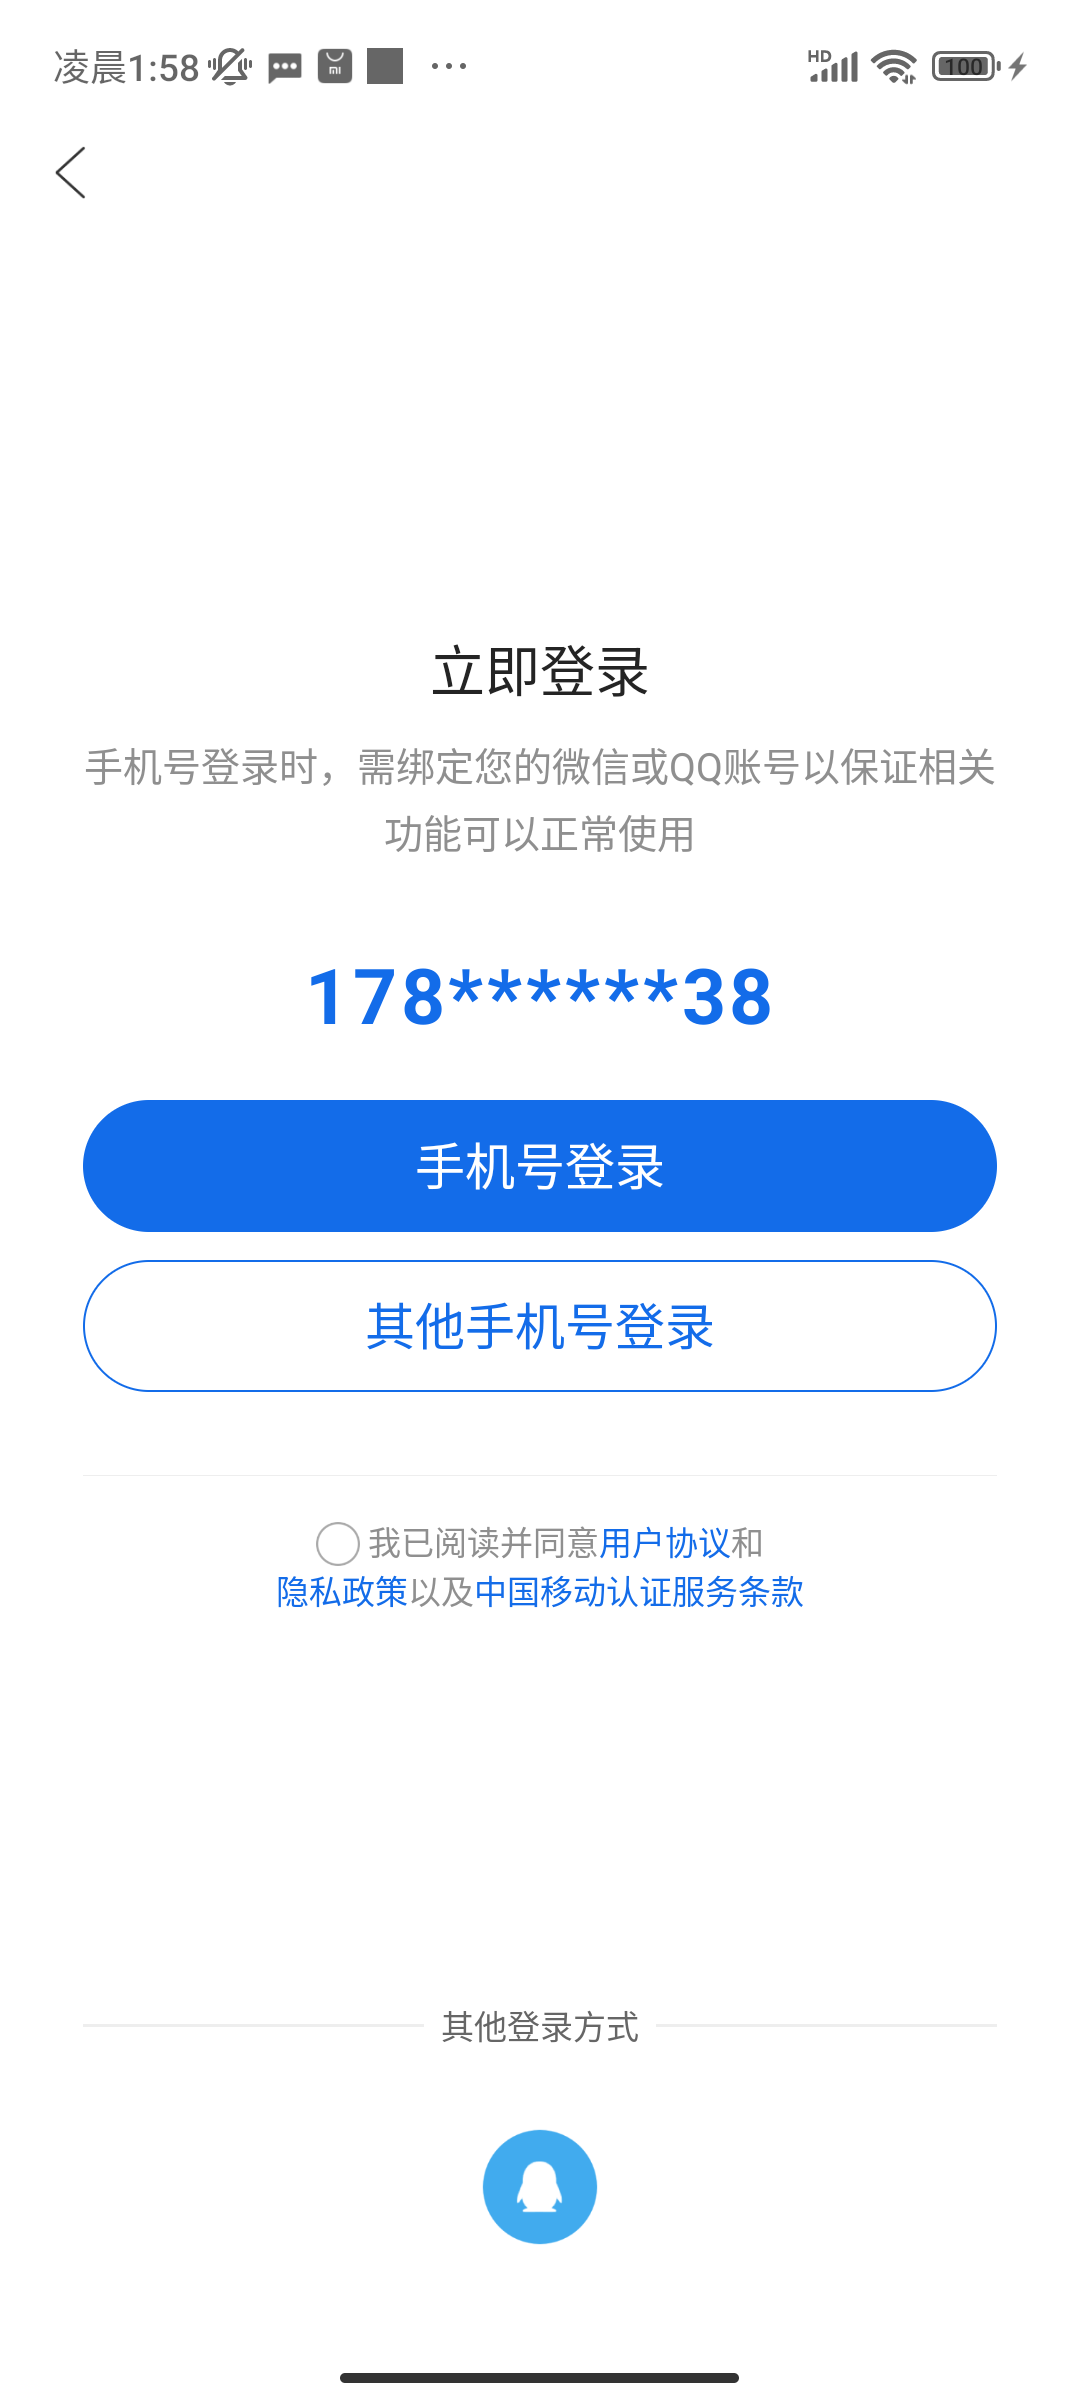ui_group: (60, 631, 1028, 1630)
